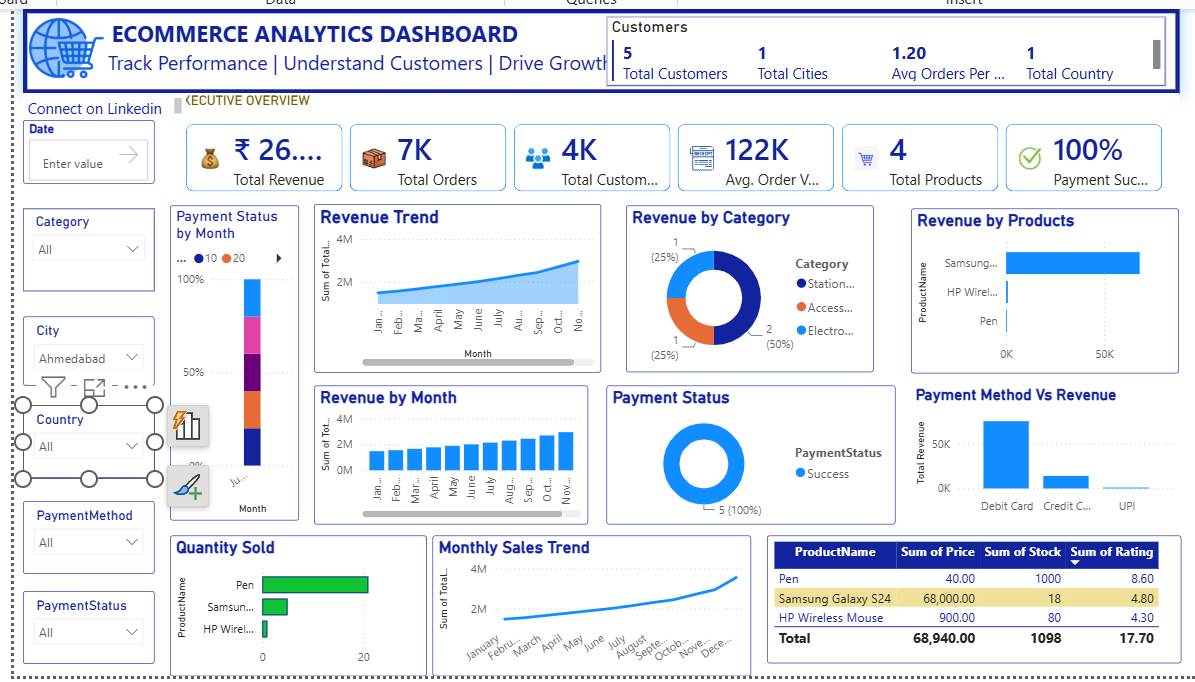

The dashboard page shown, as its layout file describes it:
{"tool":"powerbi","page":{"name":"Ecommerce_Analysis","canvas":[1280,720],"ordinal":0},"visuals":[{"type":"textbox","box":[9.9,0,1248.9,91.3],"z":0},{"type":"cardVisual","title":"EXECUTIVE OVERVIEW","fields":{"Data":["Sum(ECAS KPI_Summary.TotalRevenue)","Sum(ECAS KPI_Summary.TotalOrders)","Sum(ECAS KPI_Summary.TotalCustomers)","Sum(ECAS KPI_Summary.AvgOrderValue)","ECAS Customers.Total Products","ECAS Customers.Payment Success %"]},"box":[168.1,91.1,1089.6,123.5],"z":1},{"type":"areaChart","title":"Revenue Trend","fields":{"Category":["ECAS KPI_Summary.ReportDate.Variation.Date Hierarchy.Month","ECAS KPI_Summary.ReportDate.Variation.Date Hierarchy.Day"],"Y":["Sum(ECAS KPI_Summary.TotalRevenue)"]},"box":[324.1,210.6,309.9,182.3],"z":2},{"type":"clusteredBarChart","title":"Revenue by Products","fields":{"Category":["ECAS Products.ProductName"],"Y":["Sum(ECAS Products.Price)"]},"box":[968.1,214.7,289.6,178.2],"z":4},{"type":"donutChart","title":"Revenue by Category","fields":{"Category":["ECAS Products.Category"],"Y":["ECAS Customers.Total Products"]},"box":[660.3,212.7,267.3,180.3],"z":5},{"type":"clusteredColumnChart","title":"Revenue by Month","fields":{"Category":["ECAS KPI_Summary.ReportDate.Variation.Date Hierarchy.Month","ECAS KPI_Summary.ReportDate.Variation.Date Hierarchy.Day"],"Y":["Sum(ECAS KPI_Summary.TotalRevenue)"]},"box":[324.1,407.1,295.7,149.9],"z":6},{"type":"donutChart","title":"Payment Status","fields":{"Category":["ECAS Payments.PaymentStatus"],"Y":["CountNonNull(ECAS Payments.PaymentID)"]},"box":[640,407.1,311.9,149.9],"z":7},{"type":"barChart","title":"Quantity Sold","fields":{"Category":["ECAS Products.ProductName"],"Y":["Sum(ECAS OrderDetails.Quantity)"]},"box":[168.1,569.1,277.5,151.9],"z":8},{"type":"lineChart","title":"Monthly Sales Trend","fields":{"Category":["ECAS KPI_Summary.ReportDate.Variation.Date Hierarchy.Month","ECAS KPI_Summary.ReportDate.Variation.Date Hierarchy.Day"],"Y":["Sum(ECAS KPI_Summary.TotalRevenue)"]},"box":[451.6,569.1,344.3,151.9],"z":9},{"type":"tableEx","fields":{"Values":["ECAS Products.ProductName","Sum(ECAS Products.Price)","Sum(ECAS Products.Stock)","Sum(ECAS Products.Rating)"]},"box":[812.2,569.1,447.6,137.7],"z":10},{"type":"multiRowCard","title":"Customers","fields":{"Values":["ECAS Customers.Total Customers","ECAS Customers.Total Cities","ECAS Customers.Avg Orders Per Customer","ECAS Customers.Total Country"]},"box":[640,8.1,603.5,74.9],"z":11},{"type":"slicer","fields":{"Values":["ECAS Products.Category"]},"box":[10.1,214.7,141.8,89.1],"z":12},{"type":"textSlicer","title":"Date","box":[10.1,119.5,141.8,68.9],"z":13},{"type":"slicer","fields":{"Values":["ECAS Customers.City"]},"box":[10.1,332.2,141.8,74.9],"z":14},{"type":"slicer","fields":{"Values":["ECAS Customers.Country"]},"box":[10.1,427.3,141.8,79],"z":15},{"type":"slicer","fields":{"Values":["ECAS Payments.PaymentMethod"]},"box":[10.1,530.6,141.8,79],"z":16},{"type":"slicer","fields":{"Values":["ECAS Payments.PaymentStatus"]},"box":[10.1,627.8,141.8,79],"z":17},{"type":"hundredPercentStackedColumnChart","title":"Payment Status by Month","fields":{"Category":["ECAS Payments.PaymentDate.Variation.Date Hierarchy.Month","ECAS Payments.PaymentDate.Variation.Date Hierarchy.Day"],"Series":["ECAS Payments.PaymentID"],"Y":["CountNonNull(ECAS Payments.PaymentStatus)"]},"box":[168.4,212.1,139.3,340],"z":18},{"type":"columnChart","title":"Payment Method Vs Revenue","fields":{"Category":["ECAS Payments.PaymentMethod"],"Y":["ECAS Customers.Total Revenue"]},"box":[968.1,407.1,289.6,145.8],"z":19},{"type":"textbox","box":[10.1,91.1,176.2,28.4],"z":20},{"type":"image","box":[12.2,2,87.1,81],"z":21}]}

Visuals, with their boxes in screenshot pixels (x1, y1, x2, y2):
textbox: <region>22, 6, 1171, 90</region>
"EXECUTIVE OVERVIEW" cardVisual: <region>167, 90, 1170, 204</region>
"Revenue Trend" areaChart: <region>311, 200, 596, 368</region>
"Revenue by Products" clusteredBarChart: <region>904, 204, 1170, 368</region>
"Revenue by Category" donutChart: <region>620, 202, 866, 368</region>
"Revenue by Month" clusteredColumnChart: <region>311, 381, 583, 519</region>
"Payment Status" donutChart: <region>602, 381, 889, 519</region>
"Quantity Sold" barChart: <region>167, 530, 423, 670</region>
"Monthly Sales Trend" lineChart: <region>428, 530, 745, 670</region>
tableEx - ECAS Products.ProductName x Sum(ECAS Products.Price): <region>760, 530, 1172, 657</region>
"Customers" multiRowCard: <region>602, 14, 1157, 83</region>
slicer - ECAS Products.Category: <region>22, 204, 152, 286</region>
"Date" textSlicer: <region>22, 116, 152, 180</region>
slicer - ECAS Customers.City: <region>22, 312, 152, 381</region>
slicer - ECAS Customers.Country: <region>22, 400, 152, 472</region>
slicer - ECAS Payments.PaymentMethod: <region>22, 495, 152, 567</region>
slicer - ECAS Payments.PaymentStatus: <region>22, 584, 152, 657</region>
"Payment Status by Month" hundredPercentStackedColumnChart: <region>167, 201, 296, 515</region>
"Payment Method Vs Revenue" columnChart: <region>904, 381, 1170, 515</region>
textbox: <region>22, 90, 184, 116</region>
image: <region>24, 8, 104, 83</region>
